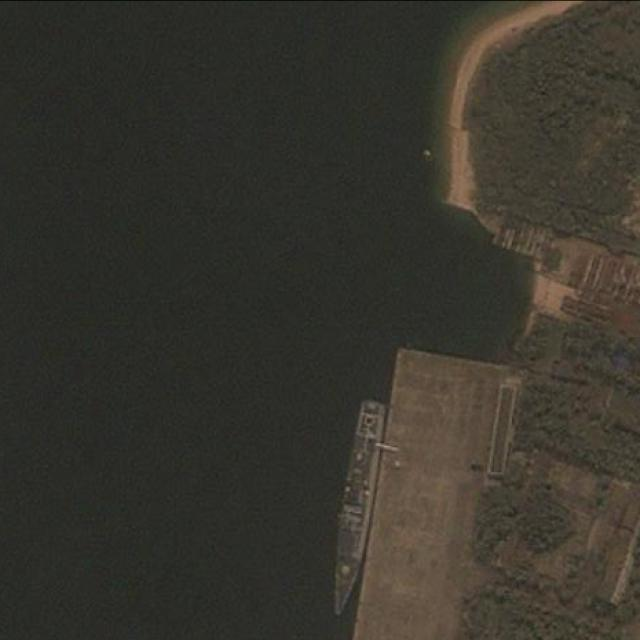Auxiliary Ships: (325, 396, 387, 619)
